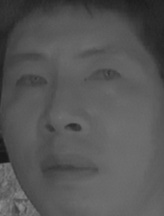eye: (81, 62, 122, 89), (14, 71, 50, 92)
mouth: (38, 147, 99, 187)
